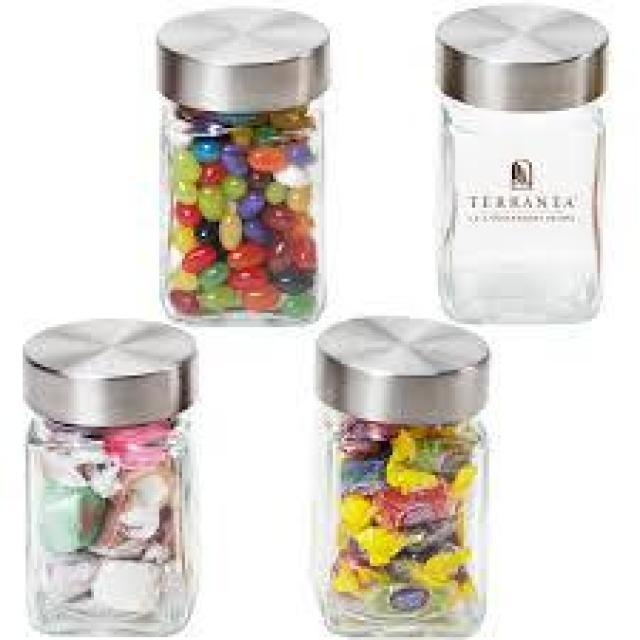Glass: (431, 1, 613, 326), (313, 313, 492, 640), (24, 315, 203, 640), (155, 4, 334, 326)
